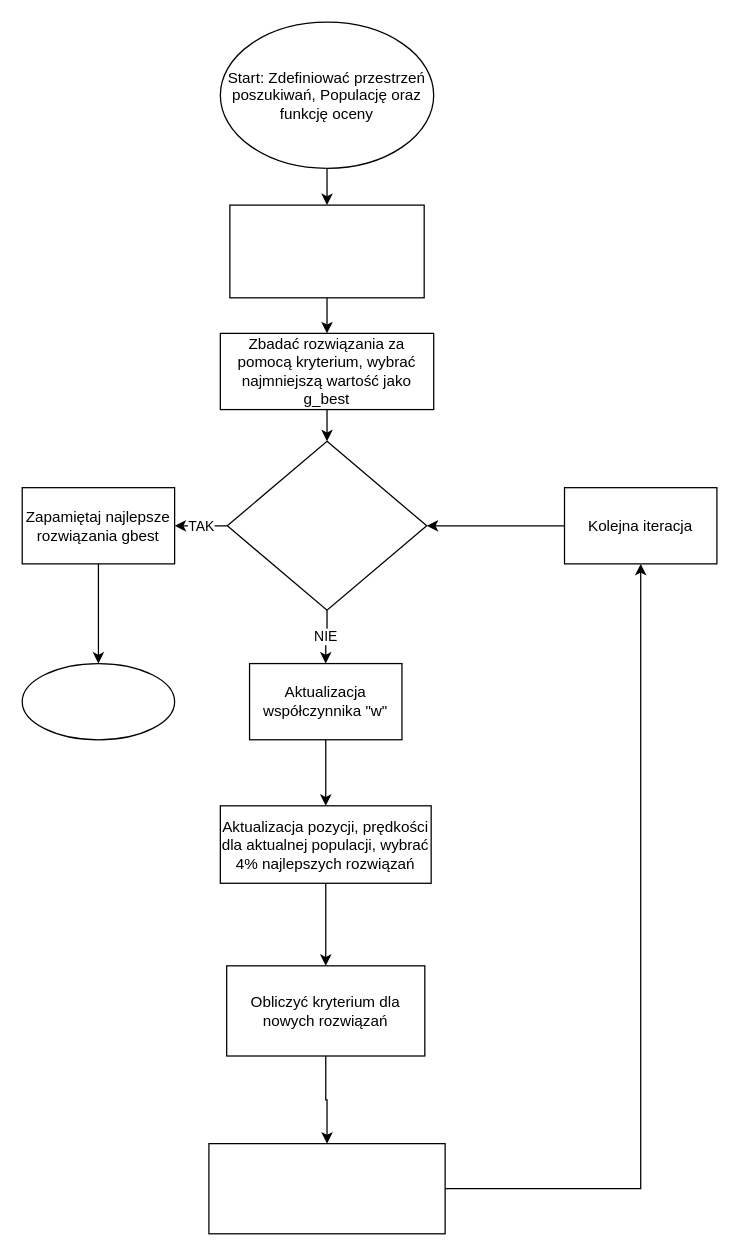
Image size: 739x1256. Some labels were removed from this diagram. The centre of each missing label's shape, as x and y in pixels:
Aktualizacja najlepszych wektorów, gbest oraz tworzenei nowego gniazda: (326,1188)
Inicjalizacja: Pozycje, prędkości, Itu, Wmax, Wmin, α1, α2, λ i β.: (326,251)
Ostatnia iteracja lub wypełnione kryterium ?: (326,525)
Stop: (98,701)
